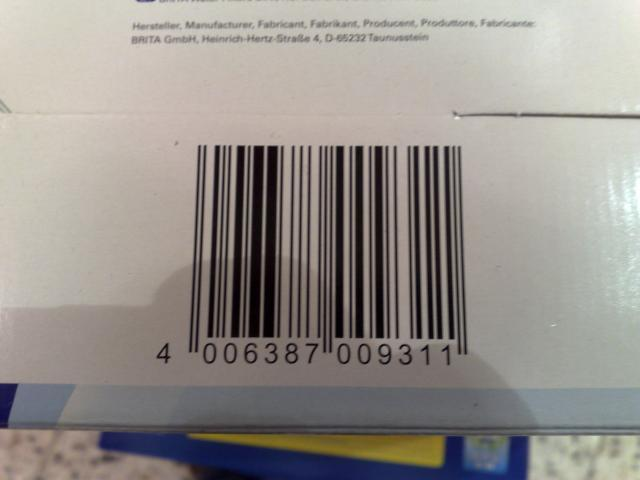Barcode: (149, 141, 493, 382)
